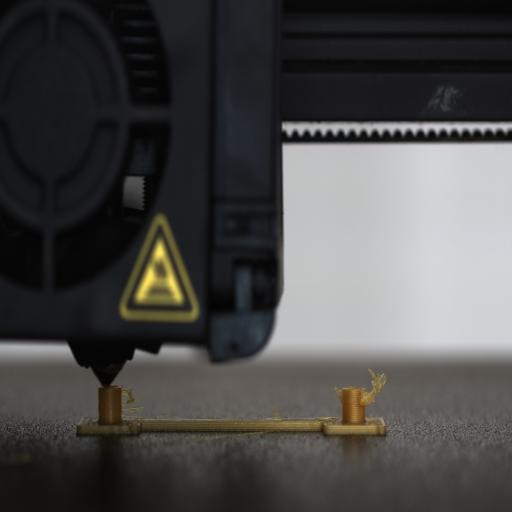stringing: (356, 367, 391, 410), (118, 377, 148, 421)
